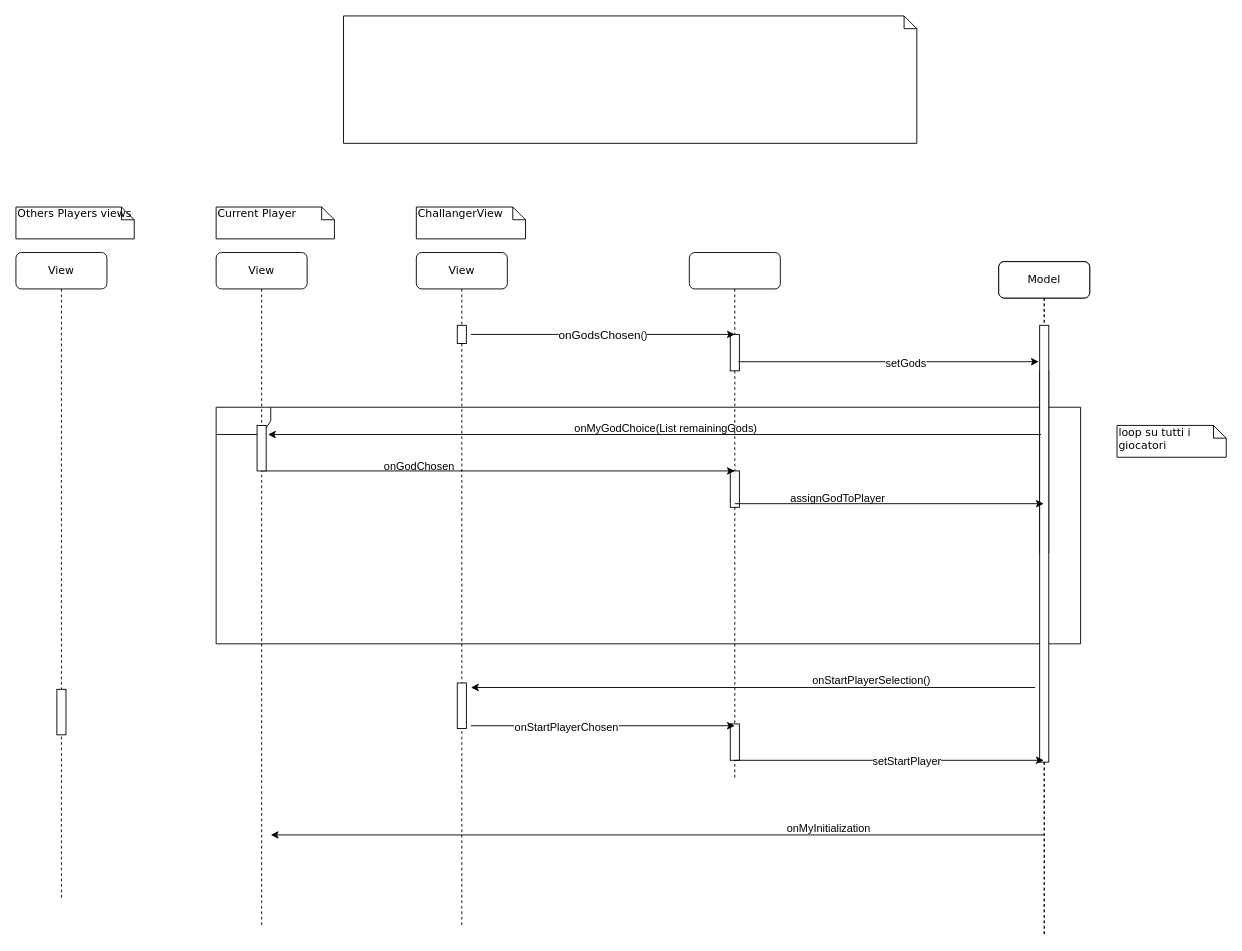
Some shapes in this 1242 by 951 pixel diagram are drawn without their labels. The box of each missing label's shape, as (x1, y1, x2, y2) in pixels:
Controller: (688, 252, 780, 780)
loop: (215, 406, 1081, 644)
SETUP - Si sono già collegati tutti: (343, 15, 917, 143)
